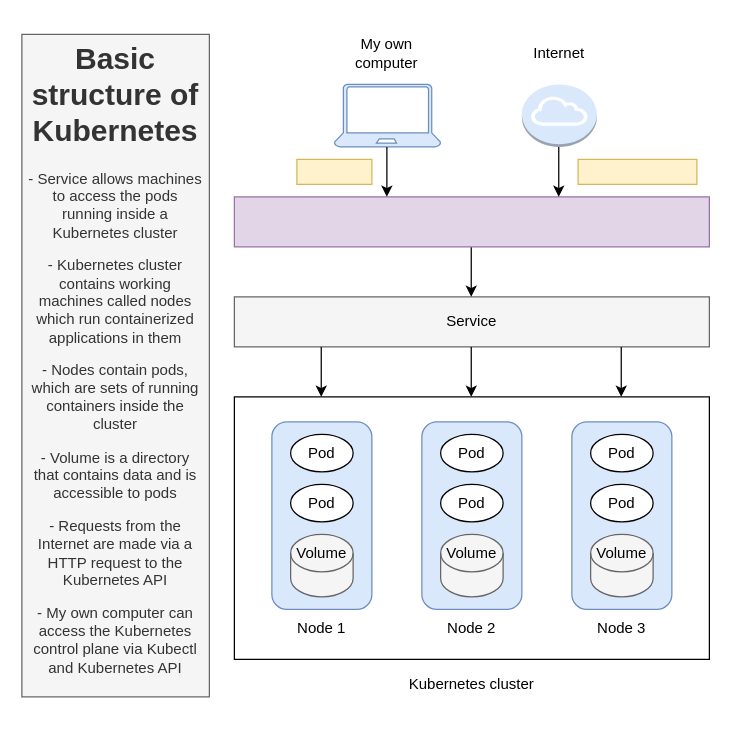
This 731x743 diagram has some shape labels left out. Each missing label, with the centre of its shape:
HTTP request: (637,171)
Kubectl: (334,171)
Kubernetes API: (471,221)
